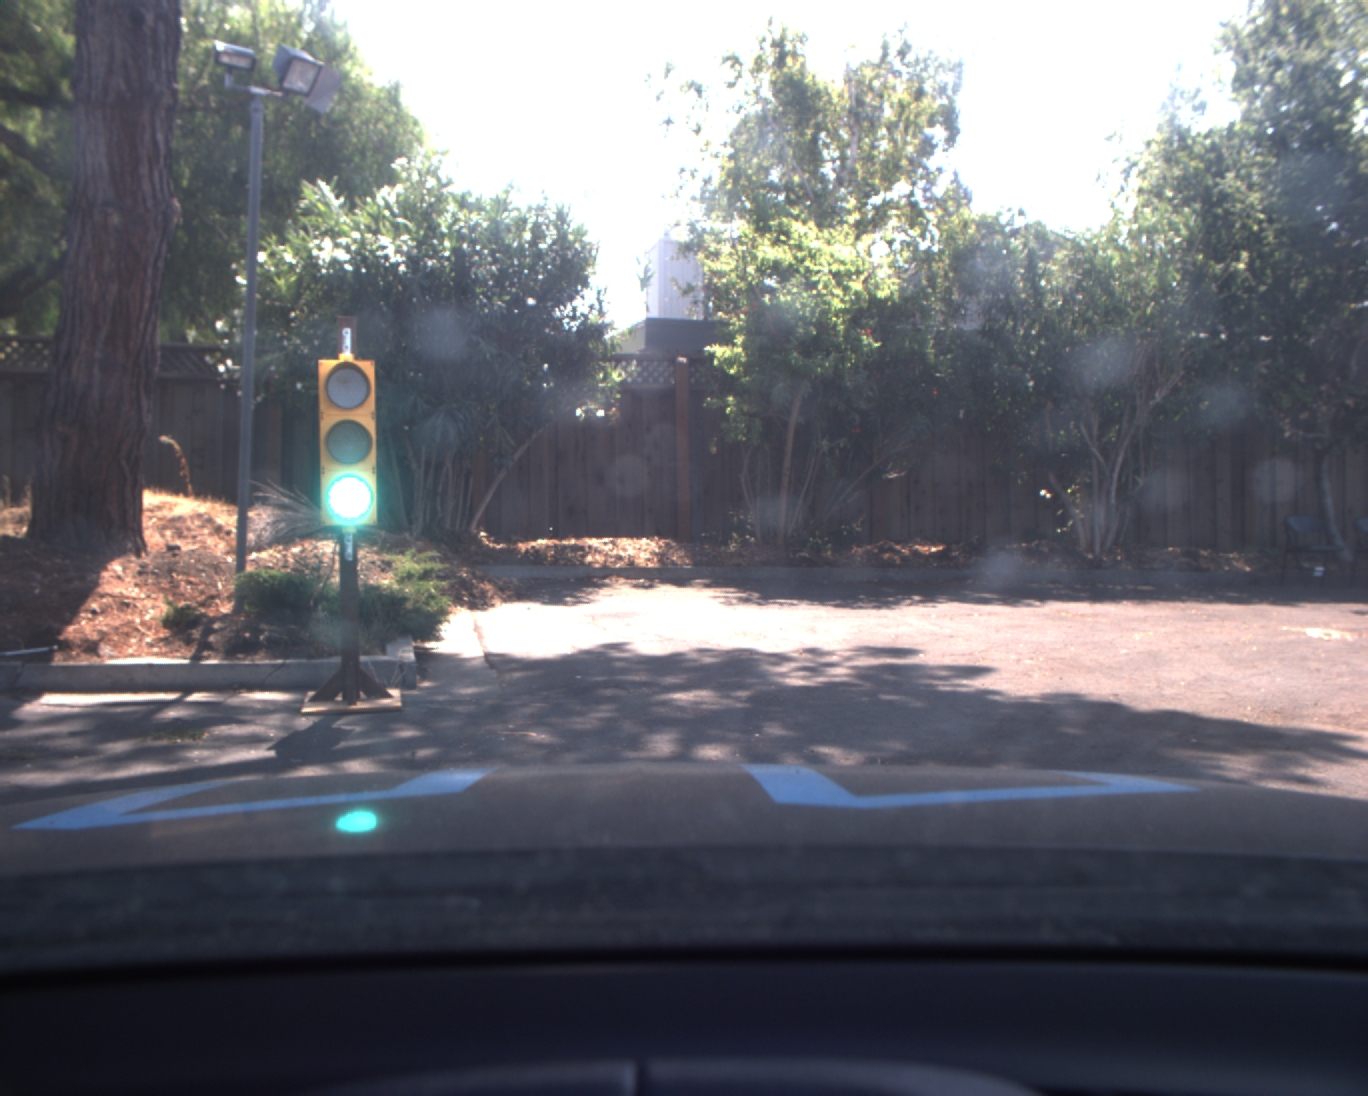green: (316, 355, 379, 531)
